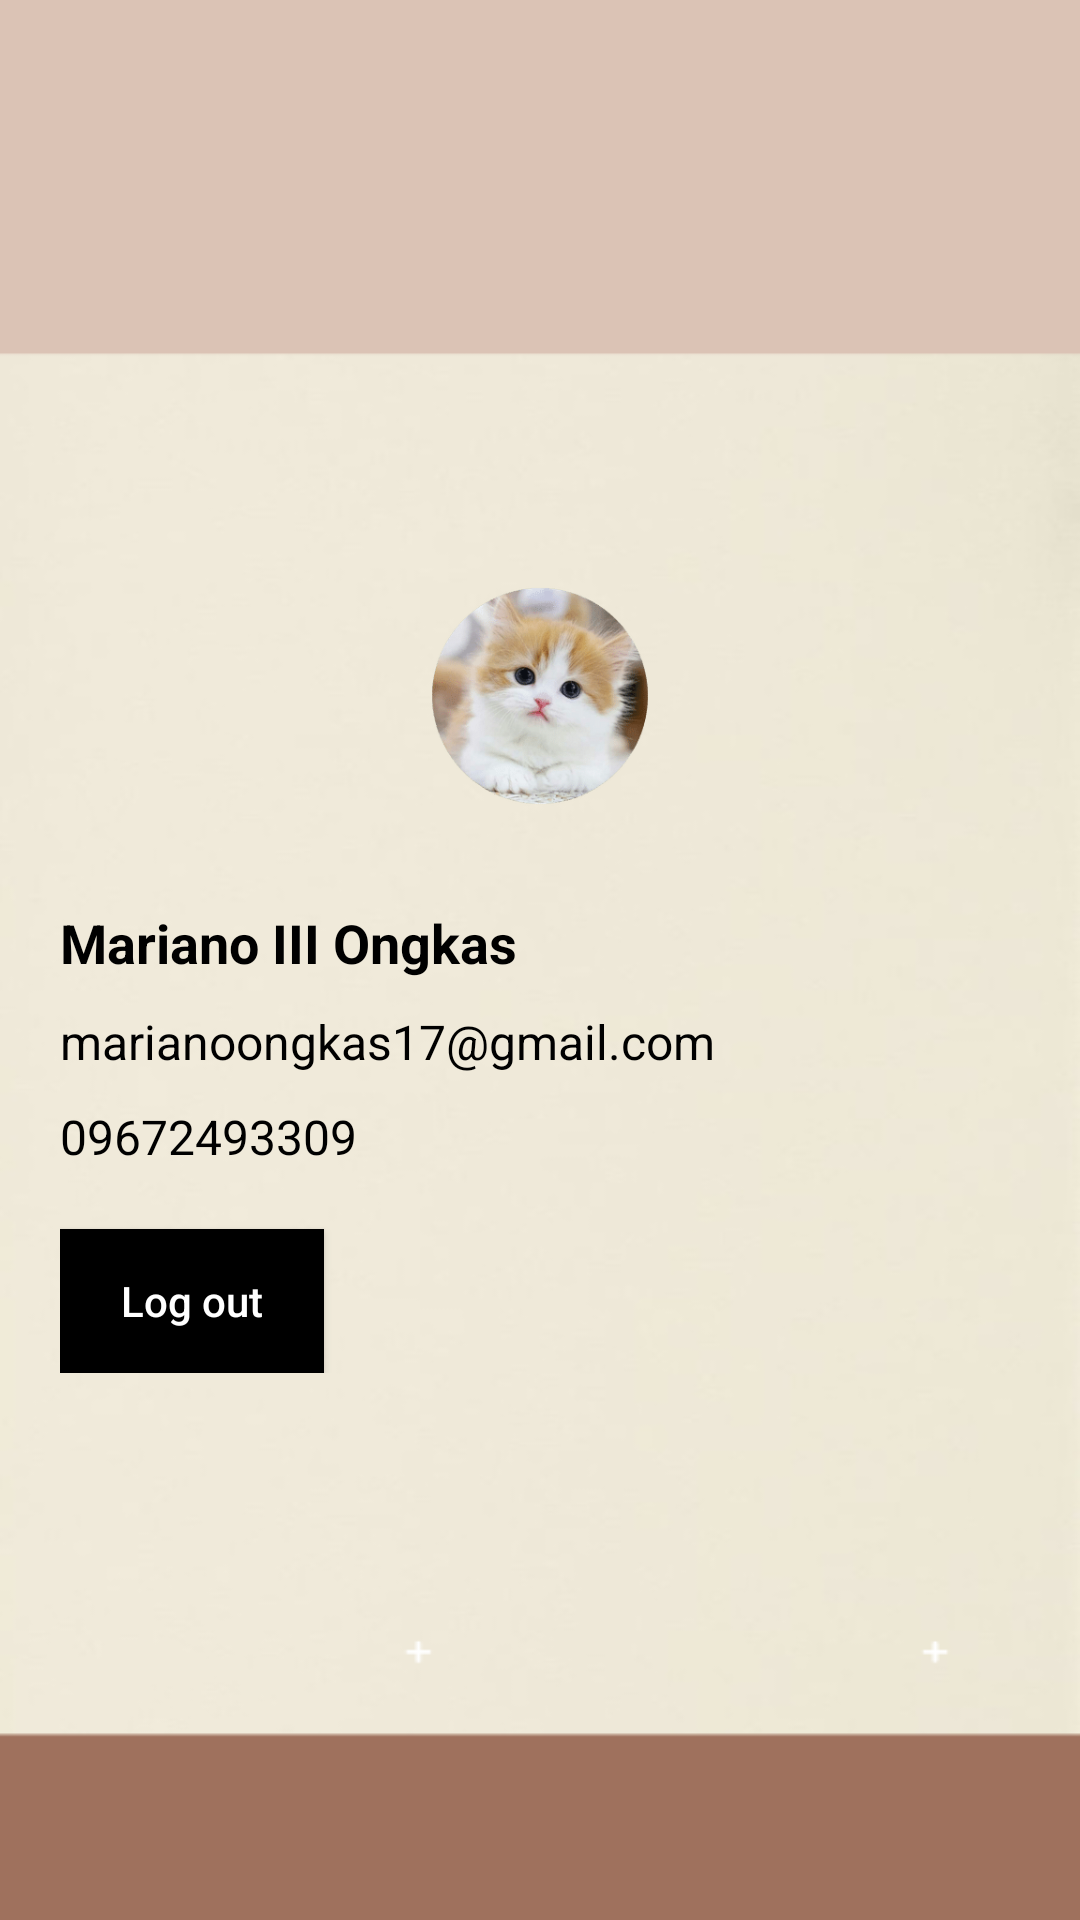

Icons on this 1080 × 1920 Android screen, each with the point to tap as (x,y):
cat: (540,695)
